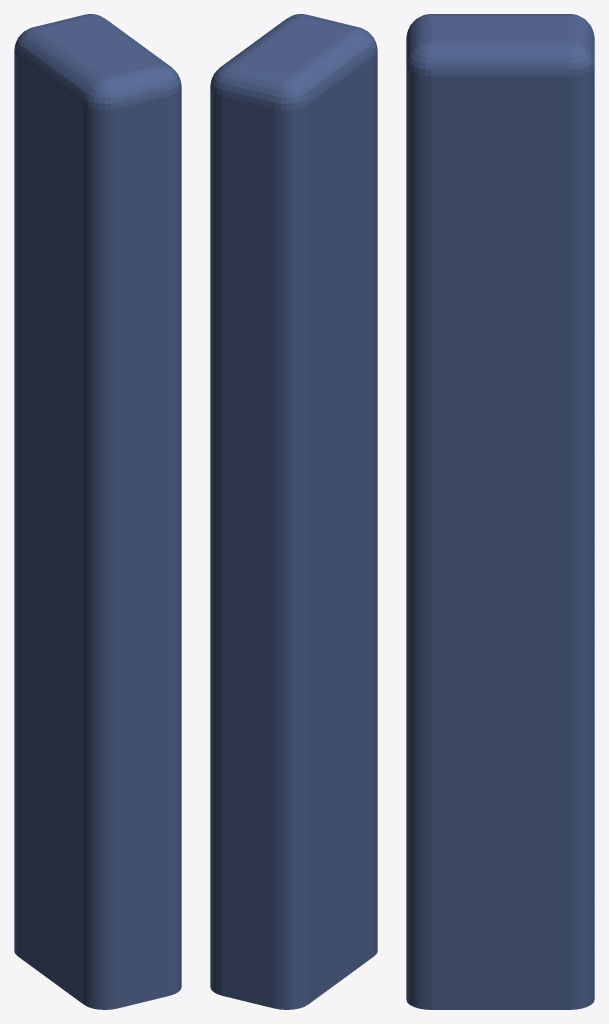
The model's file is original-5.obj.
3 views of the same model, side by side, from view 1: azimuth 30°, elevation 25°; view 2: azimuth 150°, elevation 25°; view 3: azimuth 270°, elevation 25° (orthographic). The views are drawn at different scales.
Visible parts, largest first — view 1: mesh5/mesh5-geometry#mesh5-geometry; view 2: mesh5/mesh5-geometry#mesh5-geometry; view 3: mesh5/mesh5-geometry#mesh5-geometry.
Part boxes in pixels (x1,y1,x2,y2): mesh5/mesh5-geometry#mesh5-geometry: [14, 14, 181, 1009]; mesh5/mesh5-geometry#mesh5-geometry: [210, 14, 377, 1009]; mesh5/mesh5-geometry#mesh5-geometry: [406, 14, 594, 1009].
Size of the model in its own units: 0.1069 by 0.9976 by 0.1781.
